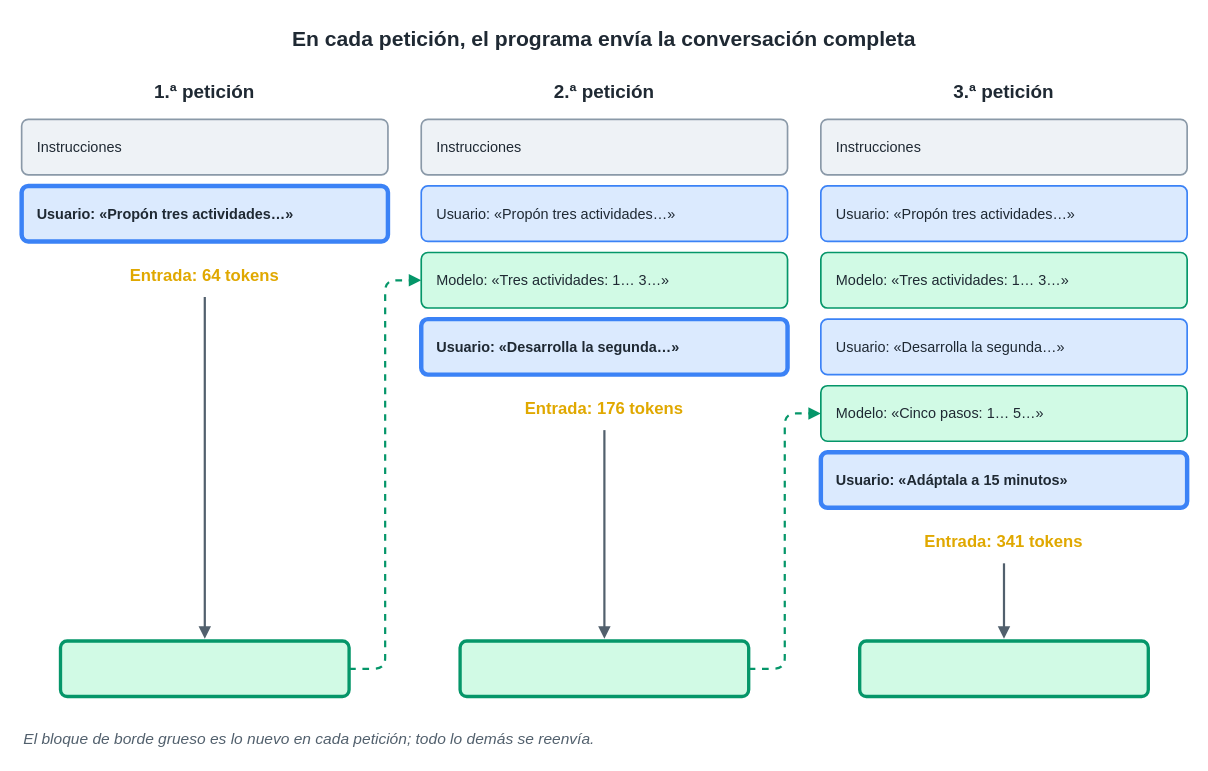
Some shapes in this 1208 by 771 pixel diagram are drawn without their labels. The shapes that lost their labels are listed below. From the top down, each one's centre as x and y in pixels, then its label:
(x=204, y=668): Respuesta 1
(x=604, y=668): Respuesta 2
(x=1003, y=668): Respuesta 3
